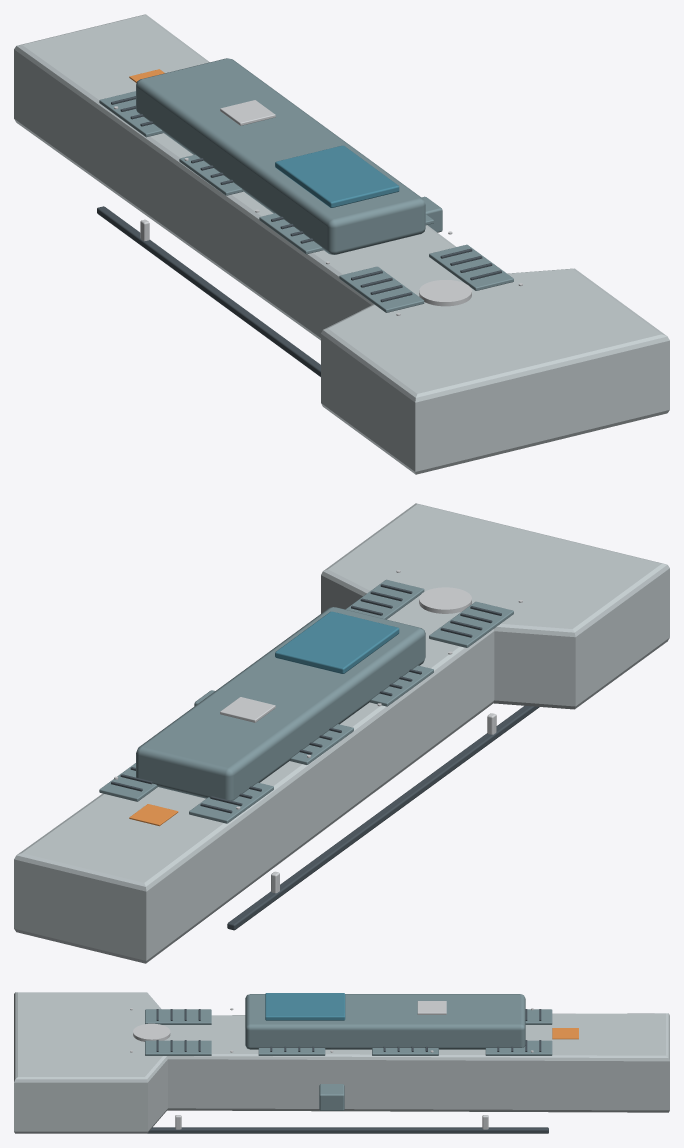
3 views of the same model, one above another, from view 1: azimuth 30°, elevation 25°; view 2: azimuth 150°, elevation 25°; view 3: azimuth 270°, elevation 25° (orthographic). The views are drawn at different scales.
Parts seen in each view (by area): view 1: destroyer-core; view 2: destroyer-core; view 3: destroyer-core.
Part boxes in pixels (x1,y1,x2,y2): destroyer-core: (14, 14, 669, 474); destroyer-core: (14, 503, 669, 963); destroyer-core: (14, 992, 669, 1133).
Size of the model in its own units: 5 by 2.8 by 15.72.
